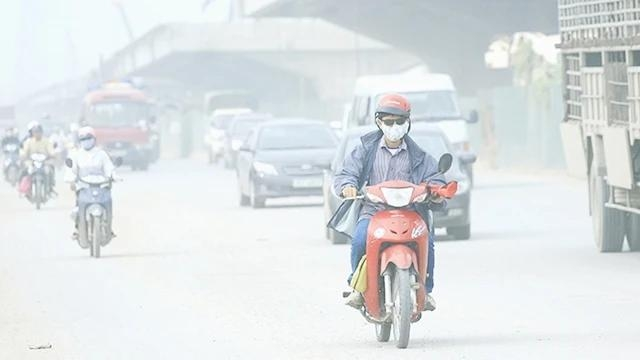bus: (80, 93, 148, 170)
car: (238, 120, 327, 205)
motorcycle: (343, 181, 446, 350), (72, 172, 116, 256), (23, 150, 54, 208), (2, 142, 22, 186)
